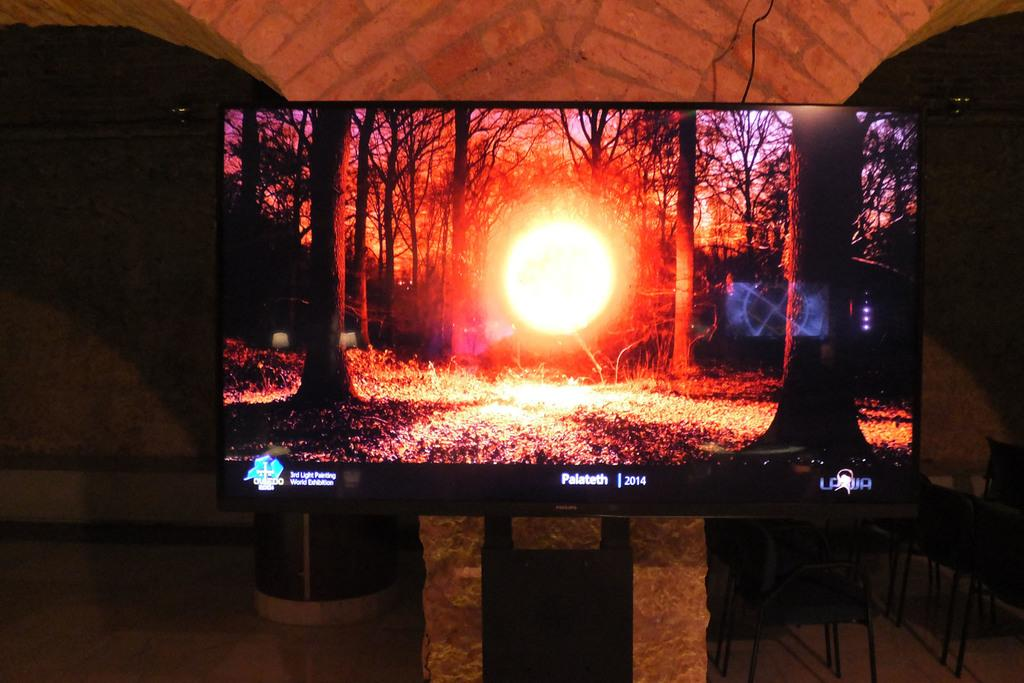Computer-monitor: (200, 94, 950, 508)
